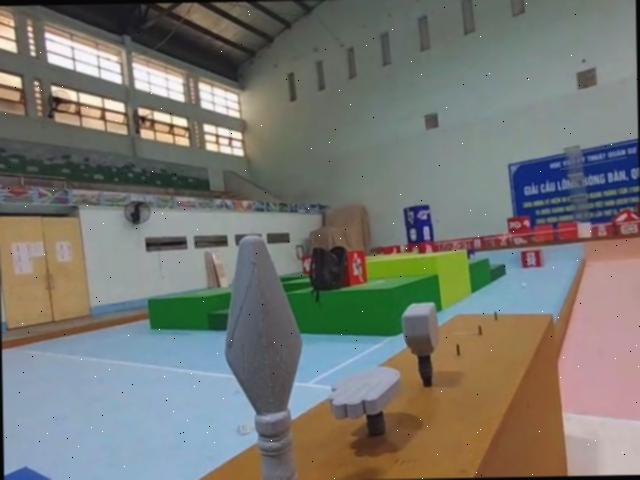Fist: (401, 299, 442, 390)
Hand: (329, 363, 403, 440)
Sph: (225, 228, 312, 480)
